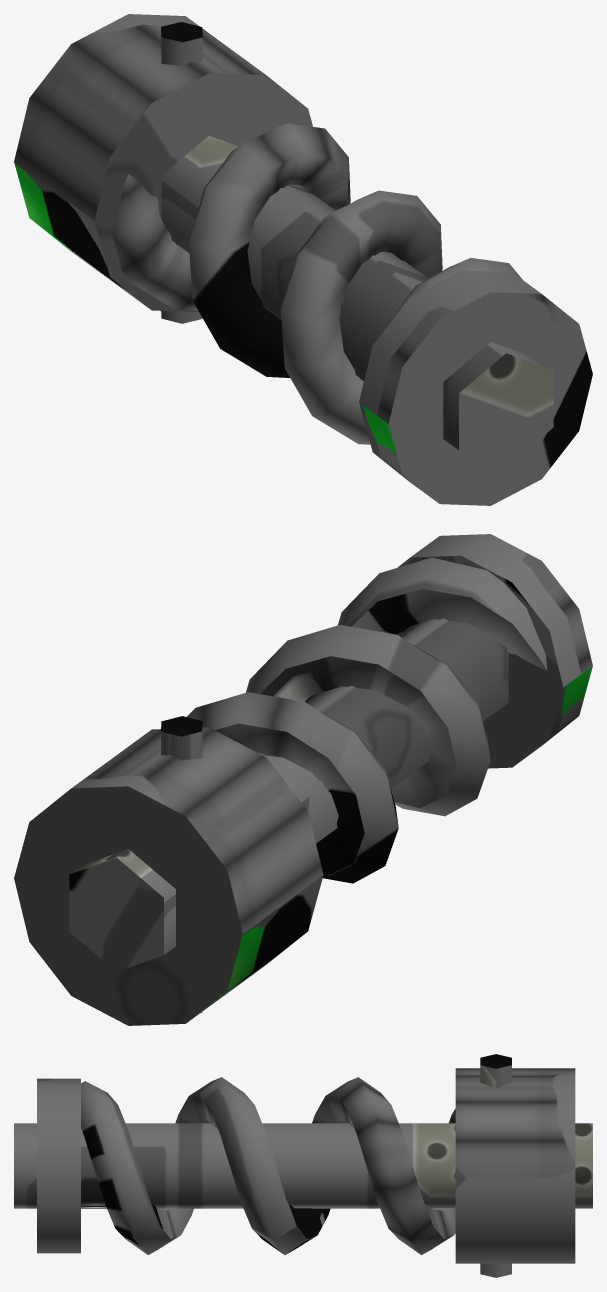
The model's file is obj_interactive_suspensionoffroad_02_off.fbx.
3 renders of one model, top to bottom at view 1: azimuth 30°, elevation 25°; view 2: azimuth 150°, elevation 25°; view 3: azimuth 270°, elevation 25°, orthographic. The views are drawn at different scales.
Parts seen in each view (by area): view 1: obj_interactive_suspensionoffroad_02_off; view 2: obj_interactive_suspensionoffroad_02_off; view 3: obj_interactive_suspensionoffroad_02_off.
Boxes of the visible parts, left/top/right/bottom form: obj_interactive_suspensionoffroad_02_off: left=14, top=14, right=592, bottom=505; obj_interactive_suspensionoffroad_02_off: left=14, top=534, right=592, bottom=1025; obj_interactive_suspensionoffroad_02_off: left=14, top=1054, right=592, bottom=1277.
Size of the model in its own units: 1.09 by 1.29 by 3.23.
